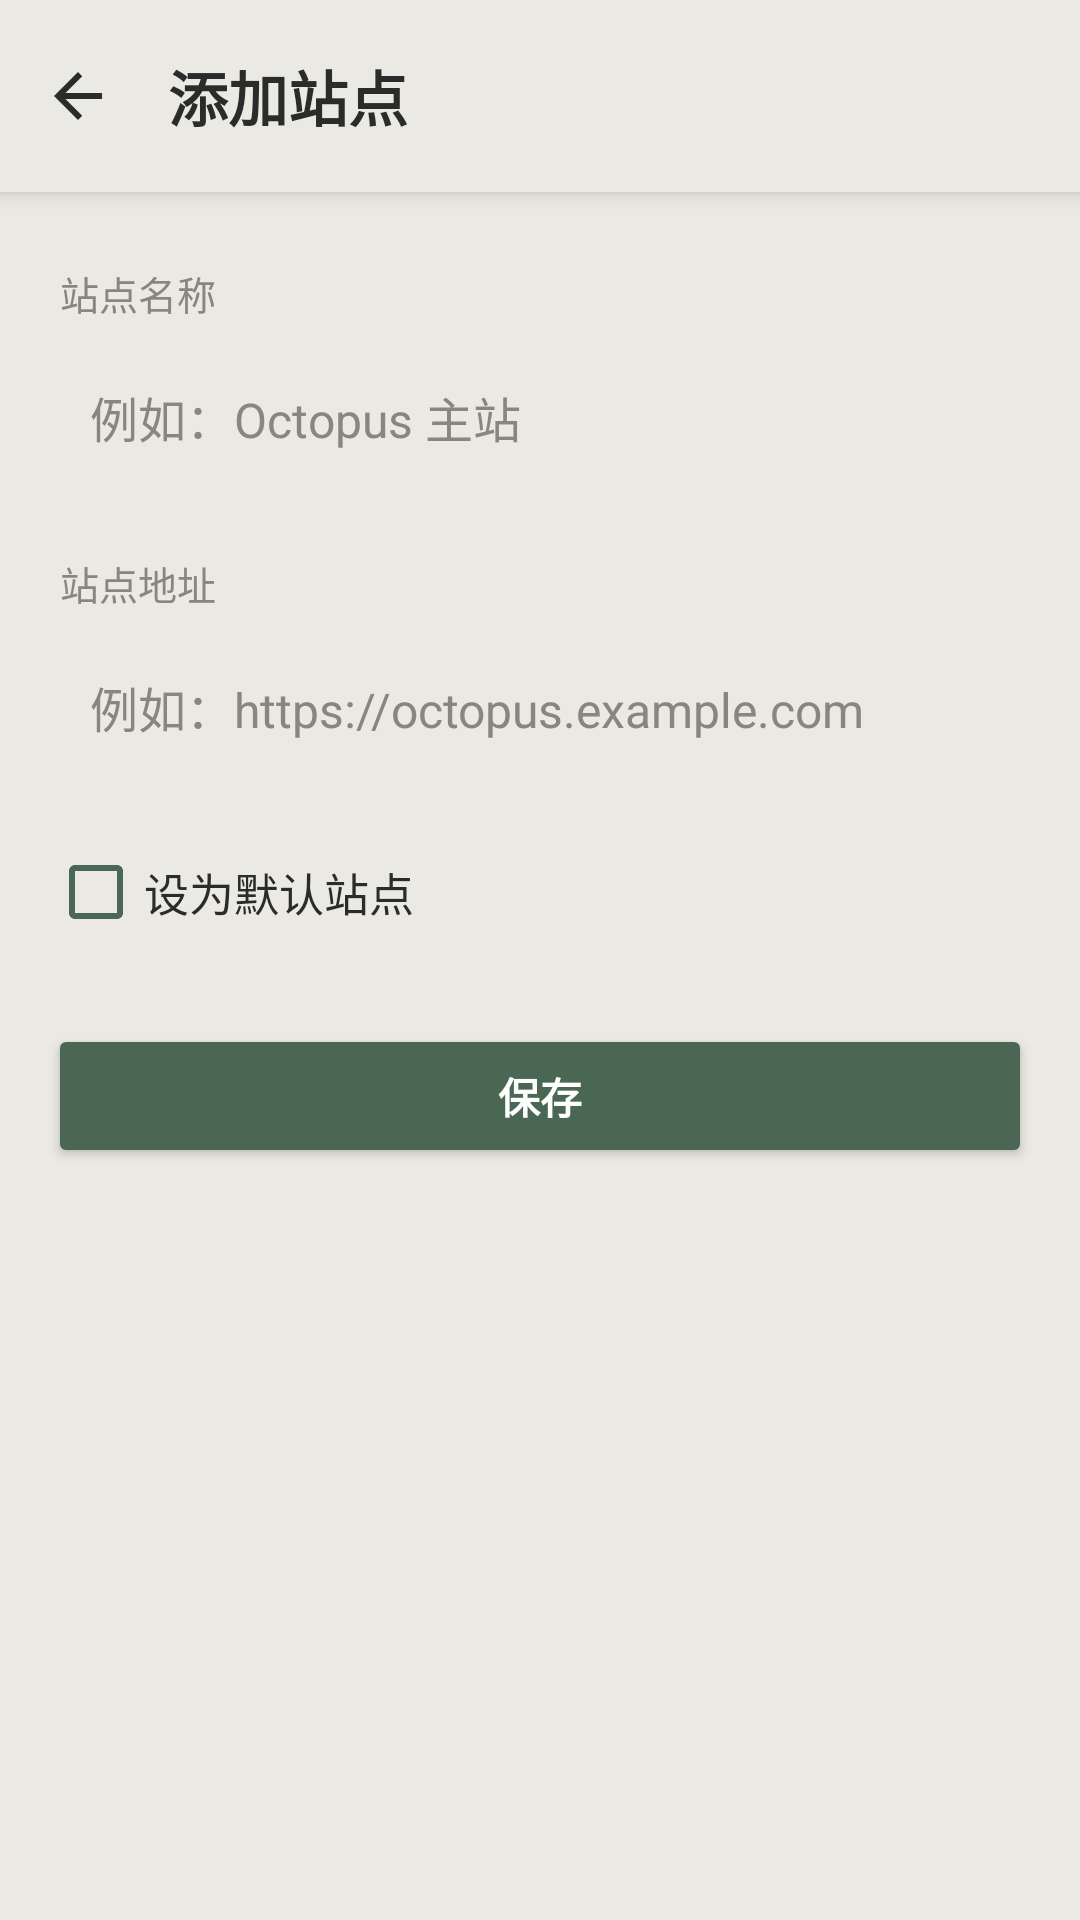

Named icons in this screenshot (1080 × 1920) and their centers, point (x, y):
返回: point (78, 96)
